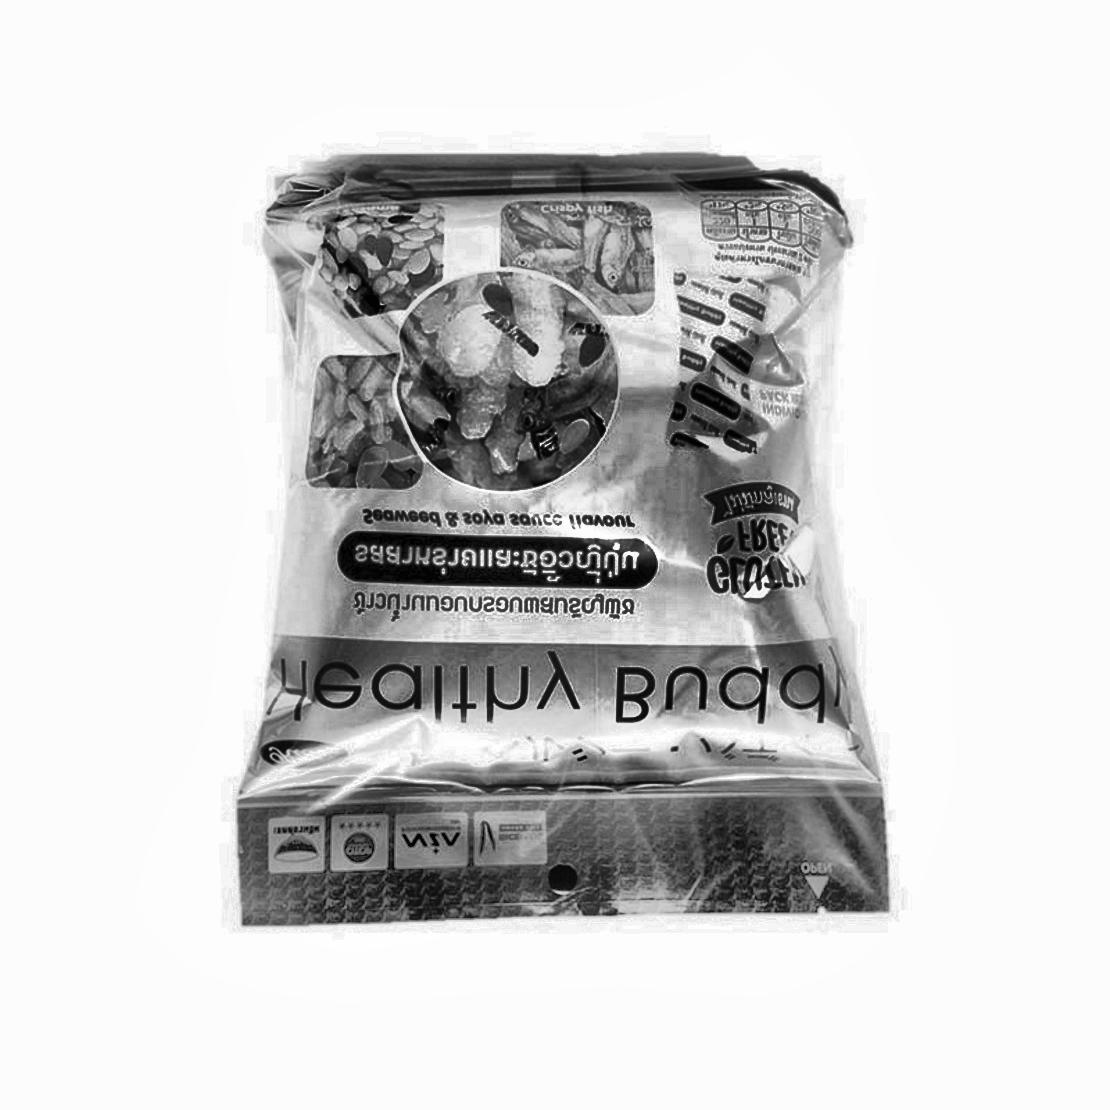snackbag: (138, 101, 998, 995)
